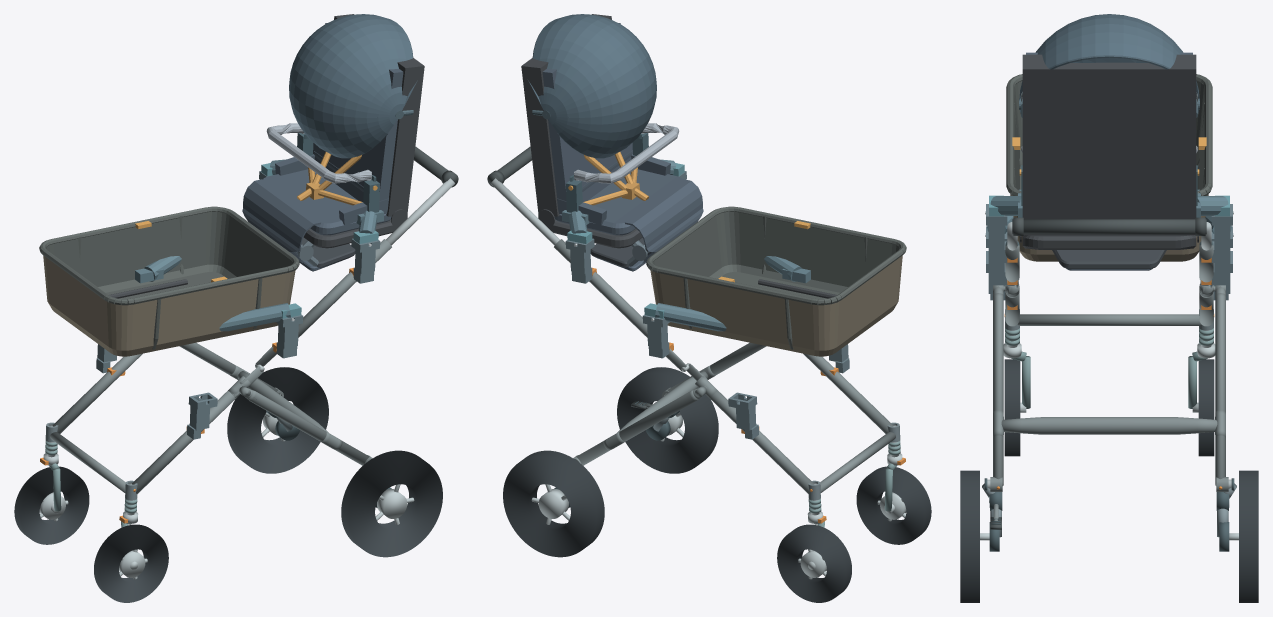
Rendered from D14_w550_state1_wheel_M.glb.
3 renders of one model, left to right at view 1: azimuth 30°, elevation 25°; view 2: azimuth 150°, elevation 25°; view 3: azimuth 270°, elevation 25°, orthographic. The views are drawn at different scales.
Parts seen in each view (by area): view 1: D14_Upper, D14_Lower, RL_tire.002, RR_tire.002, FL_tire.002, FR_tire.002, D14_Lower_Mount_M, V46_rear_leg_-1.003, main_lower_-1.003, main_lower_1.003, main_upper_-1.003, D14_Upper_Mount_H (+8 smaller); view 2: D14_Upper, D14_Lower, RR_tire.002, RL_tire.002, FR_tire.002, FL_tire.002, D14_Lower_Mount_M, V46_rear_leg_1.003, main_lower_1.003, main_lower_-1.003, main_upper_1.003, D14_Upper_Mount_H (+8 smaller); view 3: D14_Upper, D14_Lower, V46_rearbar.003, round_handle.002, RL_tire.002, RR_tire.002, front_fixed_round_tube.002, V46_rear_leg_1.003, V46_rear_leg_-1.003, D14_Upper_Mount_H, FL_tire.002, FR_tire.002 (+10 smaller).
Boxes of the visible parts, x1,y1,x2,y2 form: D14_Upper: (242,14,424,271); D14_Lower: (39,206,299,356); RL_tire.002: (341,450,442,557); RR_tire.002: (227,367,328,473); FL_tire.002: (94,524,168,602); FR_tire.002: (14,466,89,544); D14_Lower_Mount_M: (135,256,301,331); V46_rear_leg_-1.003: (247,390,369,465); main_lower_-1.003: (132,391,239,494); main_lower_1.003: (52,353,142,433); main_upper_-1.003: (277,239,391,342); D14_Upper_Mount_H: (261,159,383,246); D14_Upper: (521,14,703,271); D14_Lower: (646,206,906,356); RR_tire.002: (503,450,604,557); RL_tire.002: (617,367,718,473); FR_tire.002: (777,524,851,602); FL_tire.002: (856,466,931,544); D14_Lower_Mount_M: (644,256,810,331); V46_rear_leg_1.003: (576,390,698,465); main_lower_1.003: (706,391,813,494); main_lower_-1.003: (803,353,893,433); main_upper_1.003: (554,239,668,342); D14_Upper_Mount_H: (562,159,684,246); D14_Upper: (1019,14,1199,270); D14_Lower: (1006,74,1212,261); V46_rearbar.003: (1001,417,1217,434); round_handle.002: (1012,219,1206,234); RL_tire.002: (960,470,979,602); RR_tire.002: (1239,470,1258,602); front_fixed_round_tube.002: (1017,314,1201,325); V46_rear_leg_1.003: (1215,293,1225,485); V46_rear_leg_-1.003: (993,293,1003,485); D14_Upper_Mount_H: (985,193,1233,217); FL_tire.002: (1004,359,1020,456); FR_tire.002: (1198,359,1214,456).
Bounding box in the file's own units: 1.16 × 1.48 × 0.6771.
